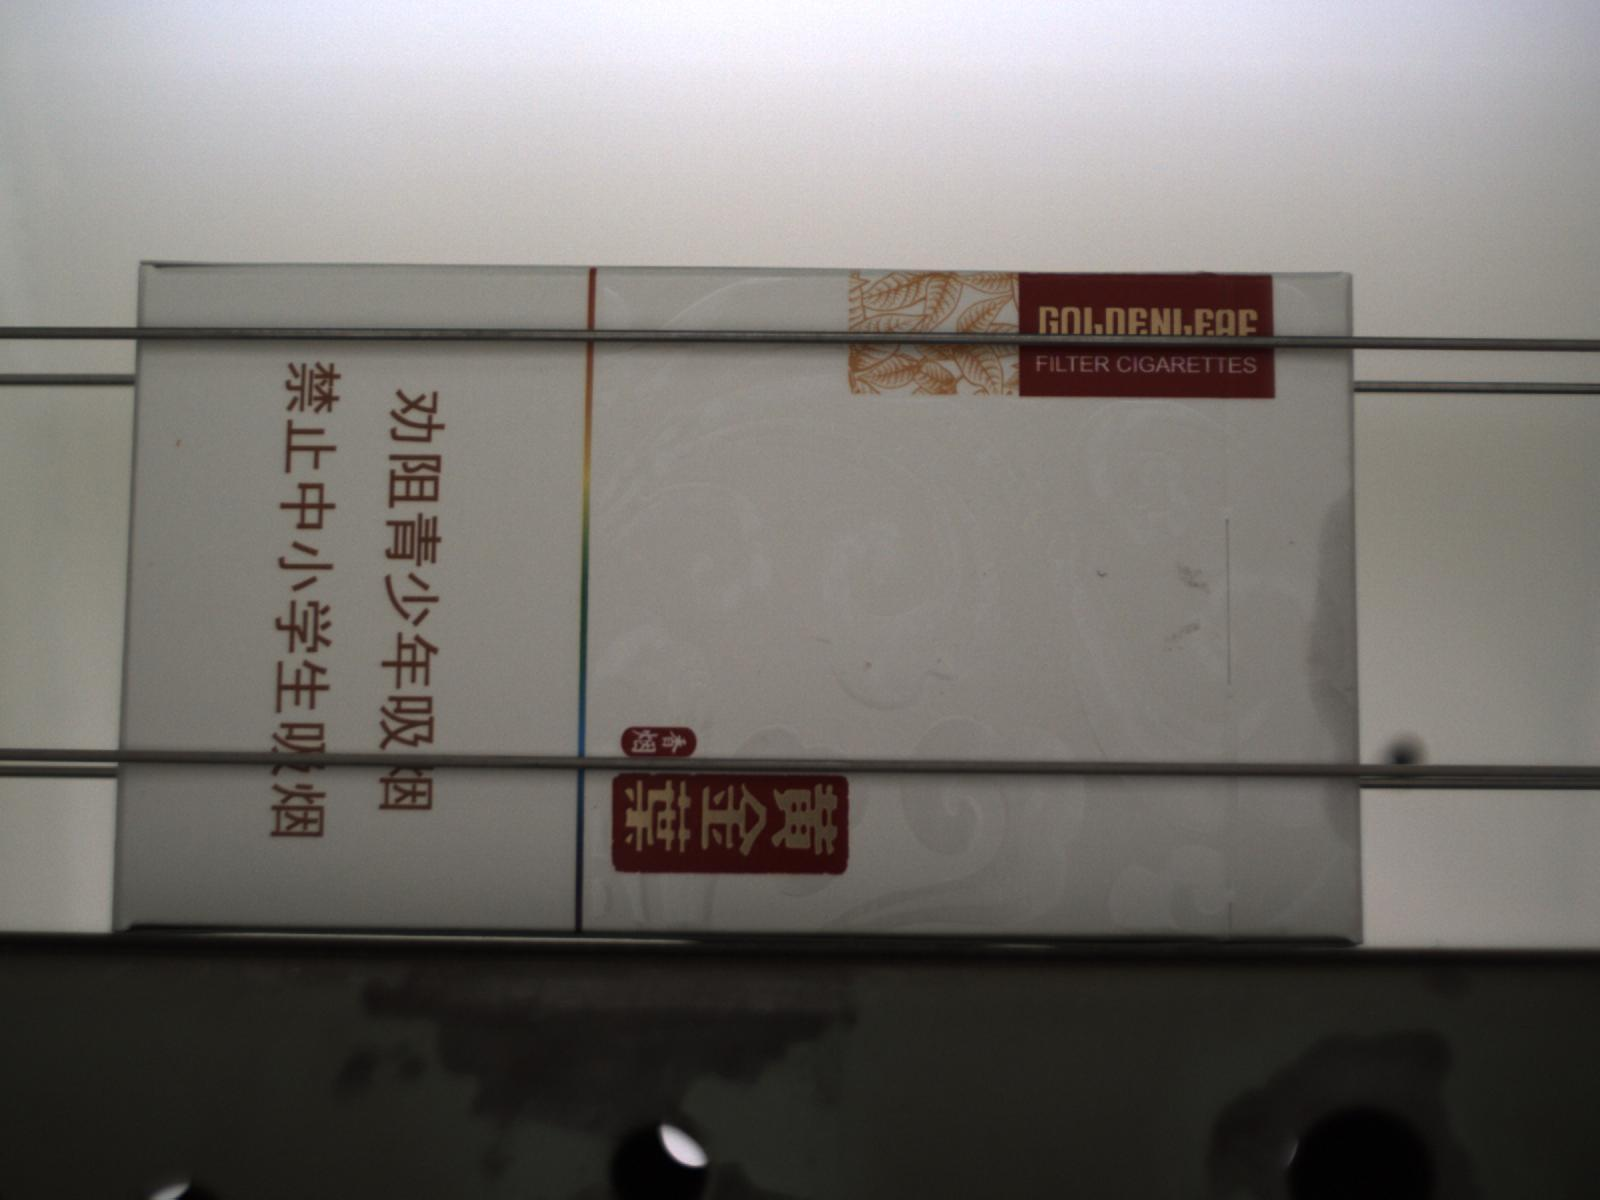areaOil: (1308, 494, 1363, 848), (862, 661, 873, 671)
dirtySpot: (1095, 568, 1110, 581), (174, 437, 186, 450), (1288, 539, 1296, 548)
gumDirt: (1163, 620, 1204, 652), (1175, 563, 1211, 596)
